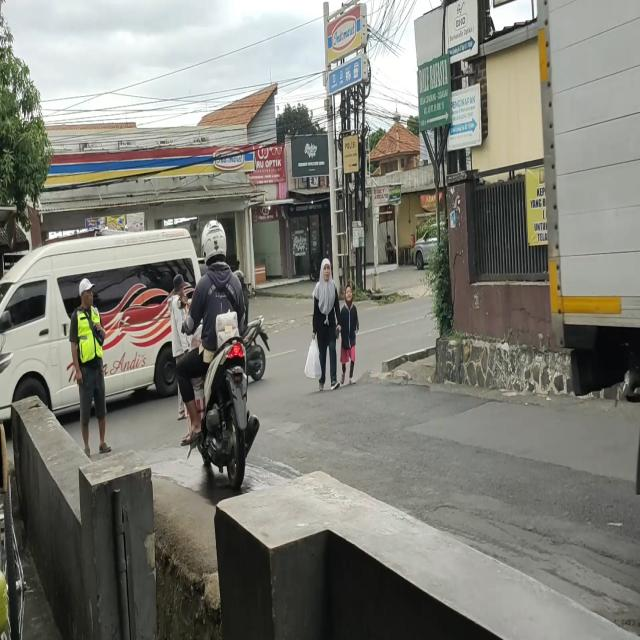helmet: (202, 220, 226, 259)
